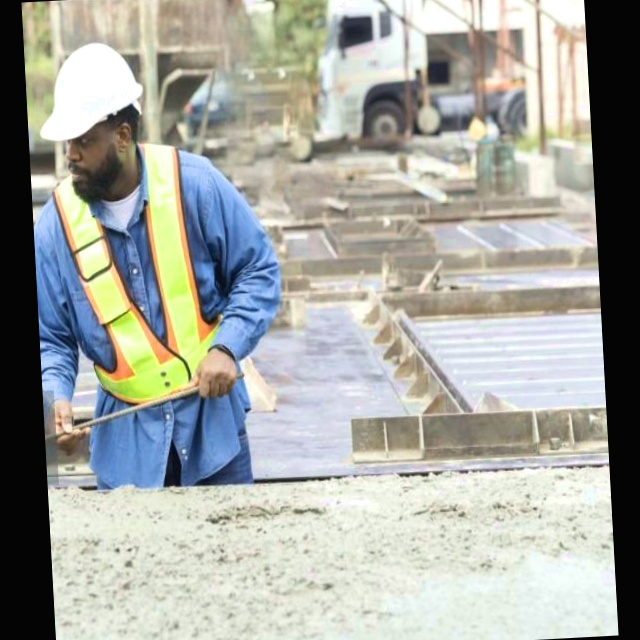Con_Casco: (37, 37, 148, 204)
Con_Chaleco: (55, 140, 226, 408)
